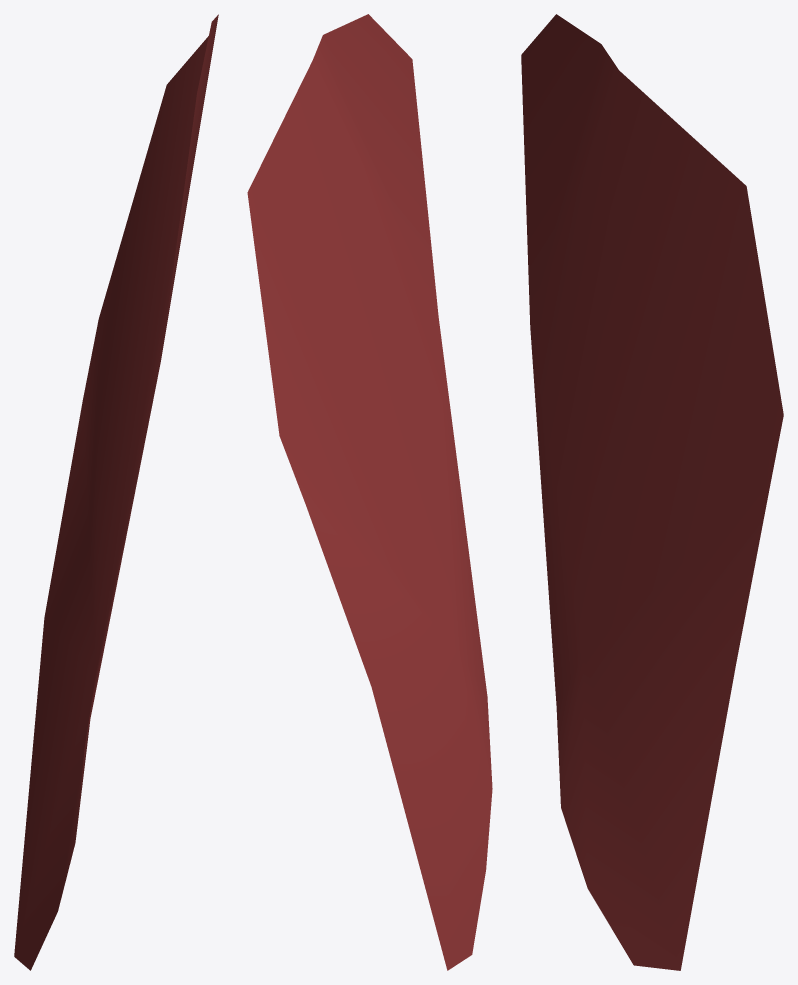
The model's file is gracilis-muscle-er.glb.
The picture shows the model from 3 angles, left to right: view 1: azimuth 30°, elevation 25°; view 2: azimuth 150°, elevation 25°; view 3: azimuth 270°, elevation 25°; orthographic projection. The views are drawn at different scales.
Parts seen in each view (by area): view 1: Gracilis muscle.er; view 2: Gracilis muscle.er; view 3: Gracilis muscle.er.
Boxes of the visible parts, <box> form: Gracilis muscle.er: <box>14,14,218,970</box>; Gracilis muscle.er: <box>247,14,492,970</box>; Gracilis muscle.er: <box>521,14,783,970</box>.
Size of the model in its own units: 0.00962 by 0.0462 by 0.0107.
